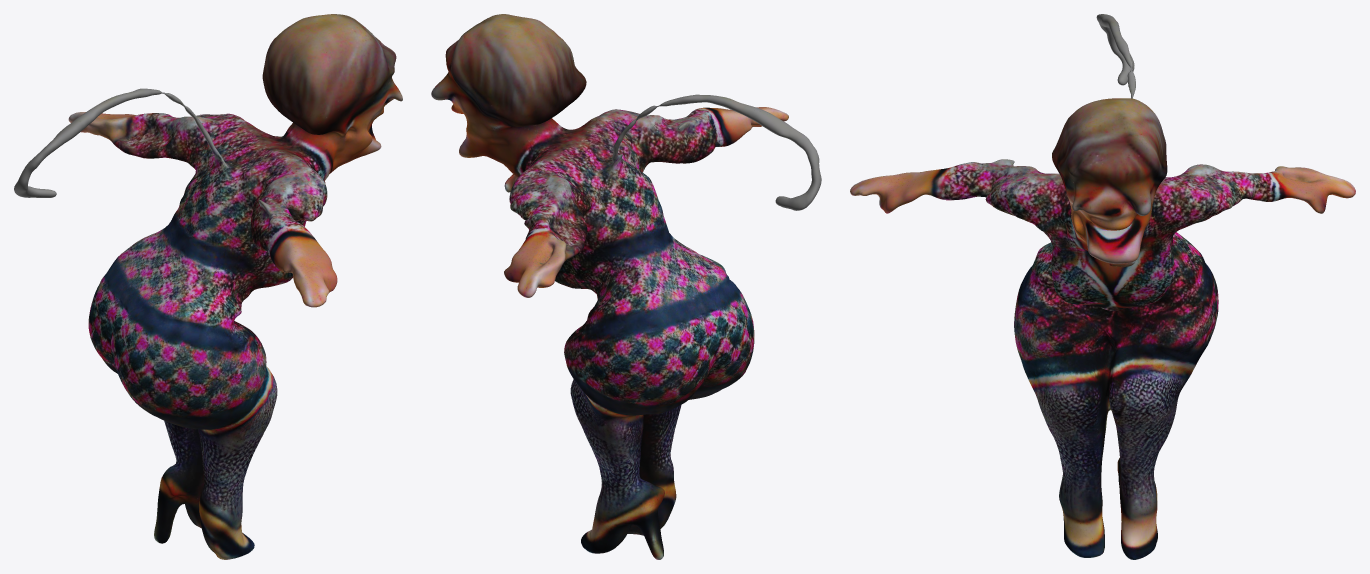
Rendered from c051a9d8b133_a_nice_lady_of_40_y.fbx.
The picture shows the model from 3 angles, left to right: view 1: azimuth 30°, elevation 25°; view 2: azimuth 150°, elevation 25°; view 3: azimuth 270°, elevation 25°; orthographic projection.
Visible parts, largest first — view 1: high_poly; view 2: high_poly; view 3: high_poly.
Boxes of the visible parts, <box> form: high_poly: <box>14,14,402,559</box>; high_poly: <box>431,14,821,559</box>; high_poly: <box>850,14,1355,559</box>.
Size of the model in its own units: 78.53 by 100 by 91.78.
